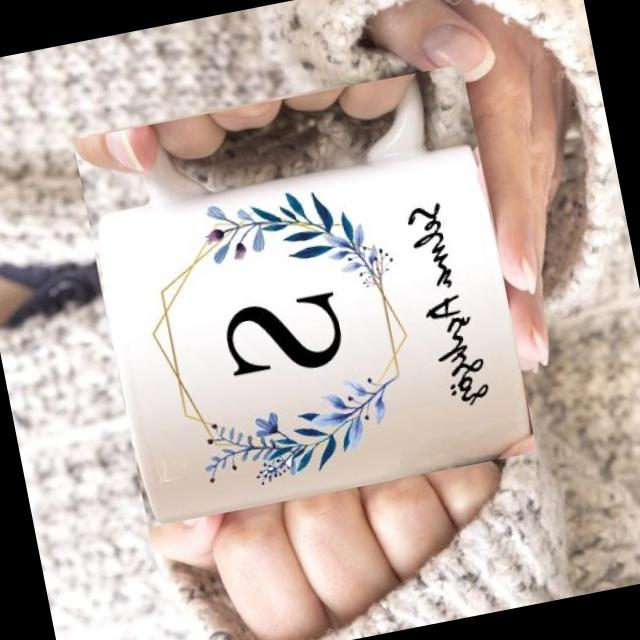Coffee Mug: (72, 64, 538, 526)
